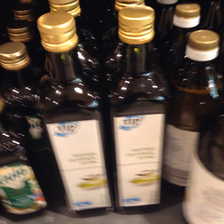oil: (32, 11, 114, 214), (104, 6, 165, 213)
